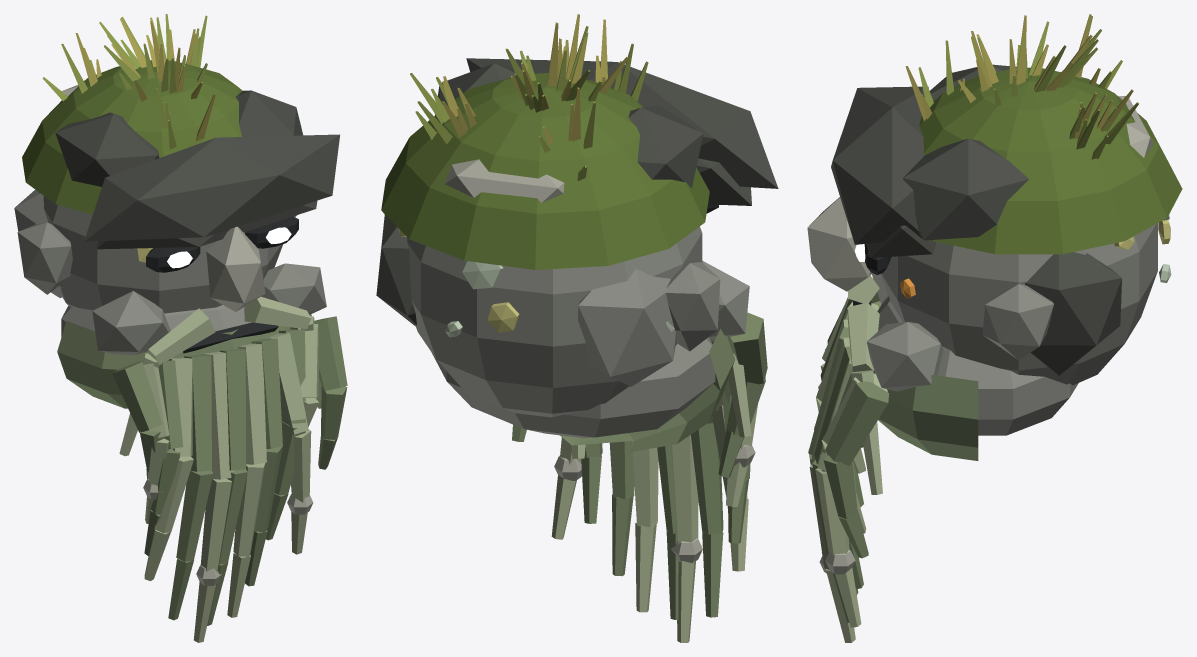
Rendered from old_stackstone_head.glb.
The picture shows the model from 3 angles, left to right: view 1: azimuth 30°, elevation 25°; view 2: azimuth 150°, elevation 25°; view 3: azimuth 270°, elevation 25°; orthographic projection. The views are drawn at different scales.
Parts seen in each view (by area): view 1: old_stackstone_head; view 2: old_stackstone_head; view 3: old_stackstone_head.
Part boxes in pixels (<box>): old_stackstone_head: <box>14,14,347,642</box>; old_stackstone_head: <box>376,14,778,642</box>; old_stackstone_head: <box>807,14,1182,642</box>.
Size of the model in its own units: 0.7093 by 1.4 by 0.7427.
